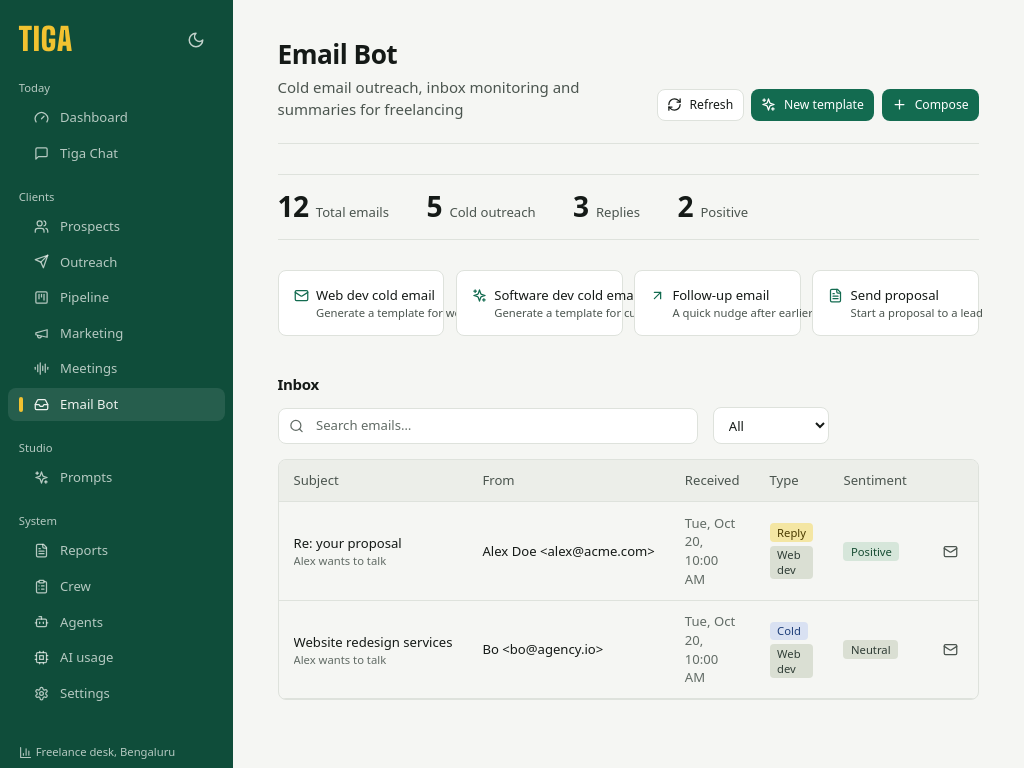
Test: EmailBot message detail › closes from the close button
Click the button "Re: your proposal" at (348, 544), box [294, 534, 402, 553]
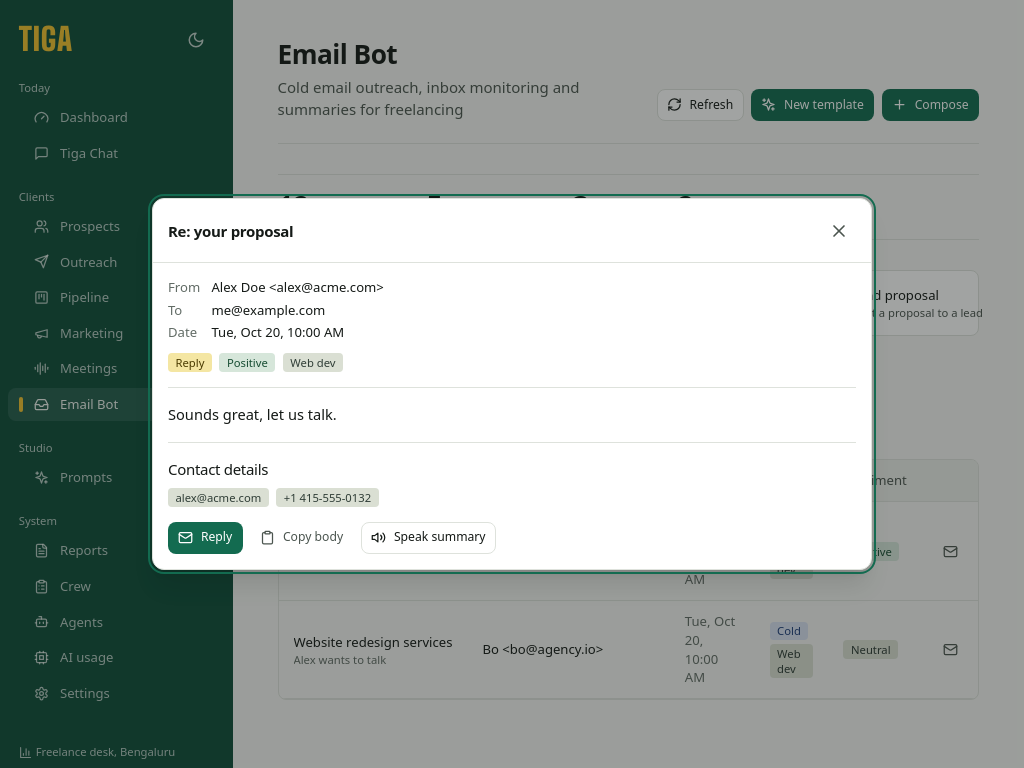
Click the button named "close" at (839, 231), box [823, 214, 856, 248]
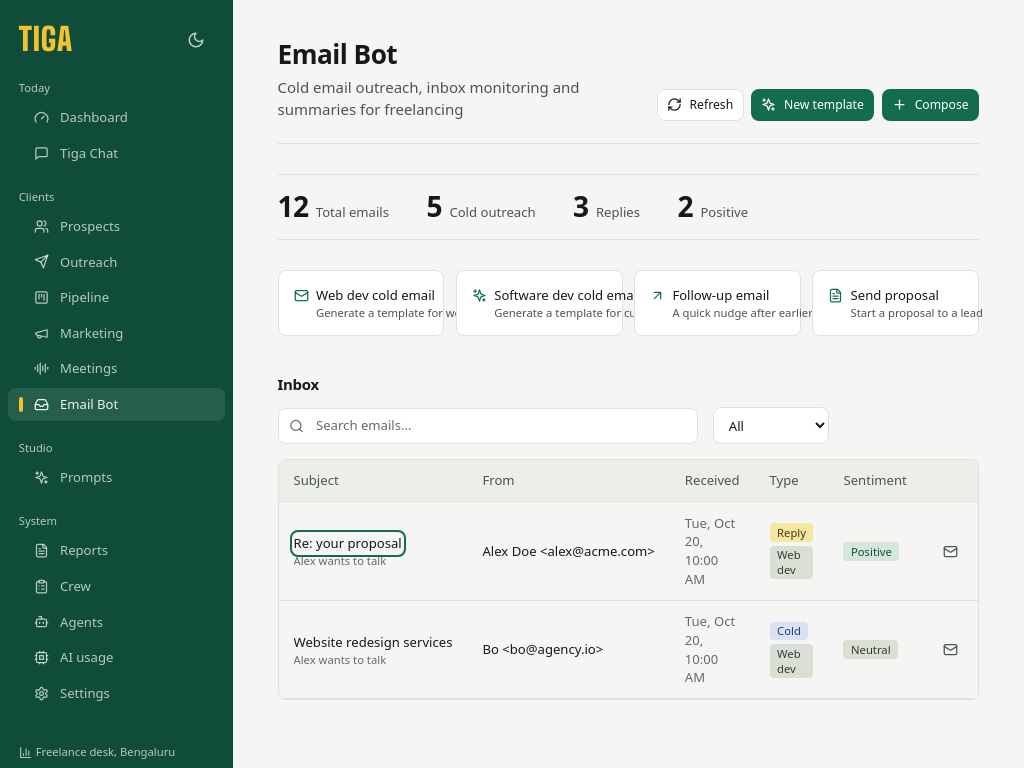
expect the dialog is gone: met
